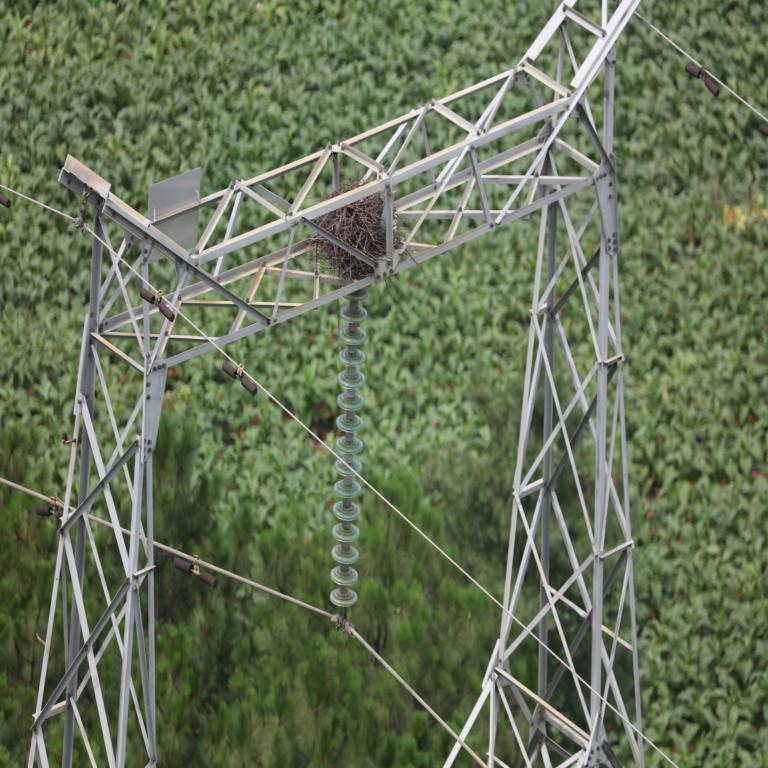nest: (316, 187, 394, 276)
